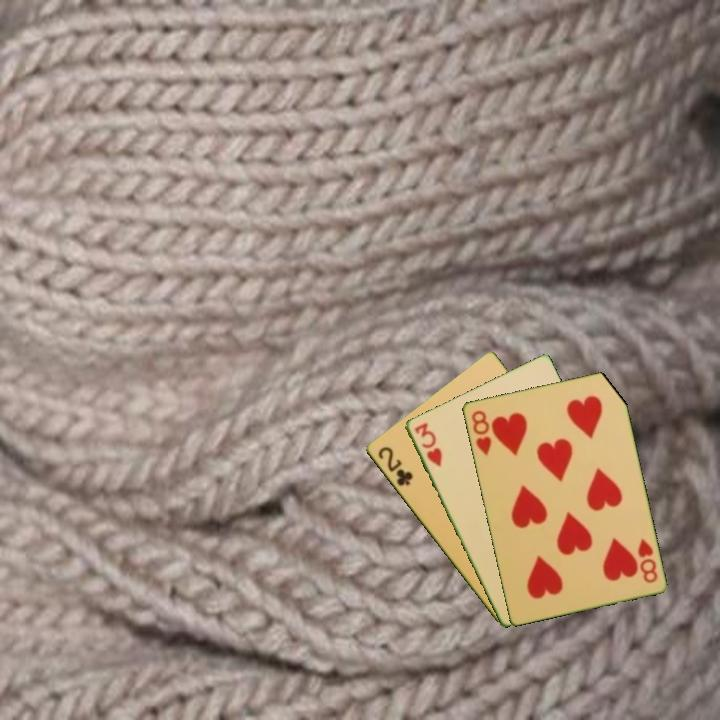2c: (374, 443, 416, 489)
3h: (410, 419, 445, 470)
8h: (467, 407, 494, 458), (634, 535, 660, 586)
